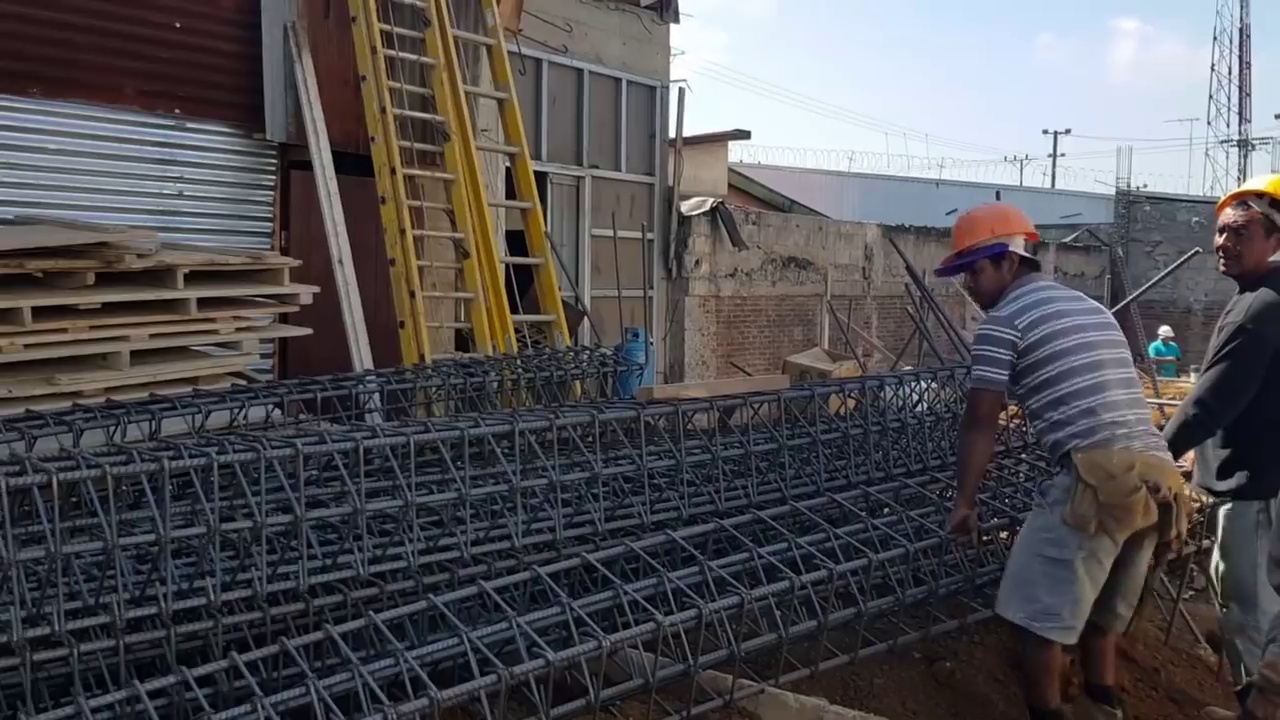helmet: (948, 200, 1049, 270), (1214, 170, 1279, 219), (1157, 325, 1175, 338)
helmet-on: (932, 198, 1056, 318), (1213, 171, 1280, 296), (1157, 325, 1175, 347)
person: (937, 187, 1173, 719), (1176, 170, 1279, 720), (1149, 322, 1184, 381)
